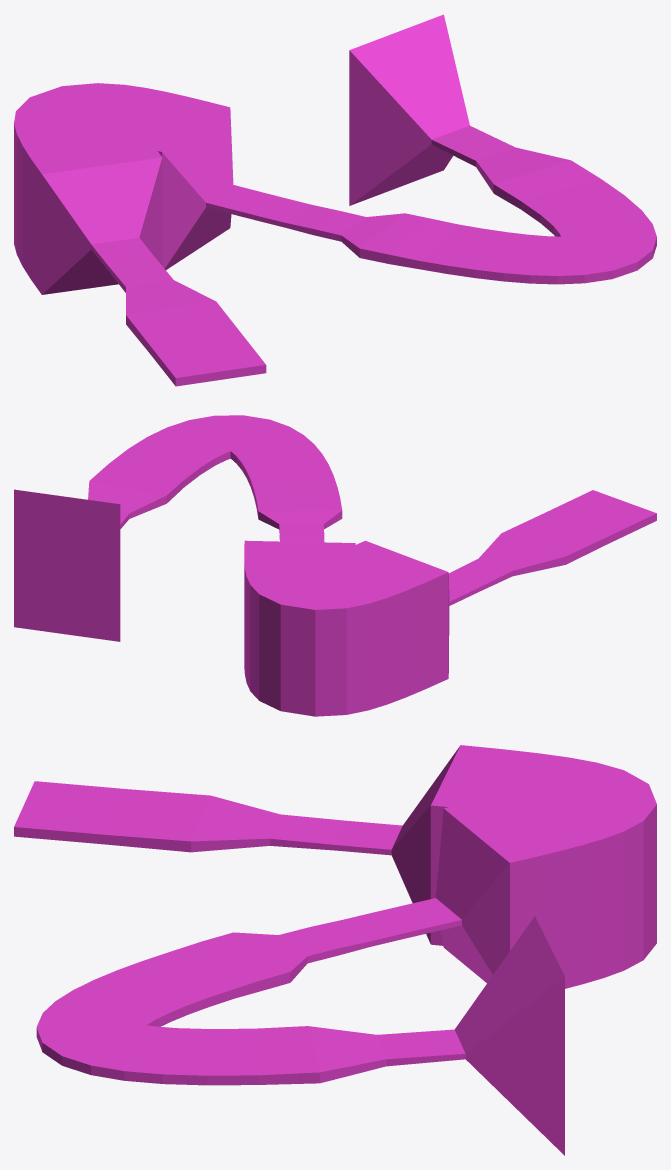
The model's file is N_pink.fbx.
3 renders of one model, top to bottom at view 1: azimuth 30°, elevation 25°; view 2: azimuth 150°, elevation 25°; view 3: azimuth 270°, elevation 25°, orthographic. The views are drawn at different scales.
Parts seen in each view (by area): view 1: NurbsPath.006; view 2: NurbsPath.006; view 3: NurbsPath.006.
Part boxes in pixels (left/top/right/bottom): NurbsPath.006: left=14, top=14, right=656, bottom=386; NurbsPath.006: left=14, top=415, right=656, bottom=716; NurbsPath.006: left=14, top=745, right=656, bottom=1155.
Size of the model in its own units: 131 by 37.16 by 121.
